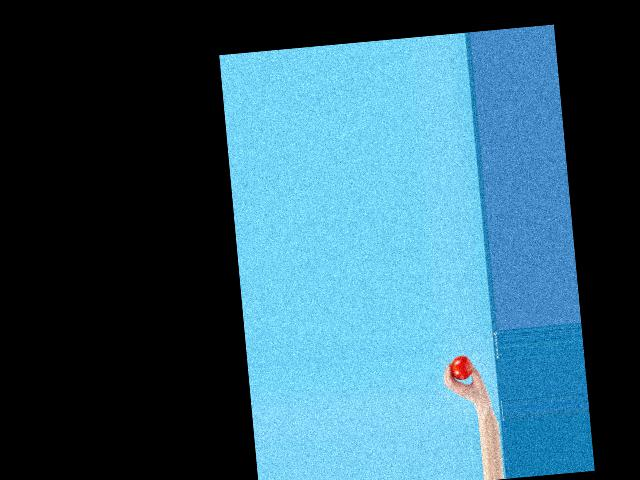tomato: (449, 355, 472, 380)
